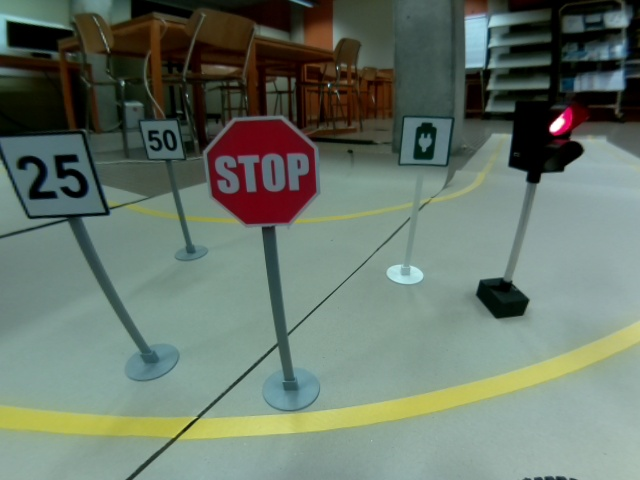battery: (398, 114, 455, 167)
speed25: (1, 126, 110, 220)
speed50: (138, 117, 186, 162)
stop: (202, 115, 321, 228)
traffic light: (508, 97, 591, 178)
